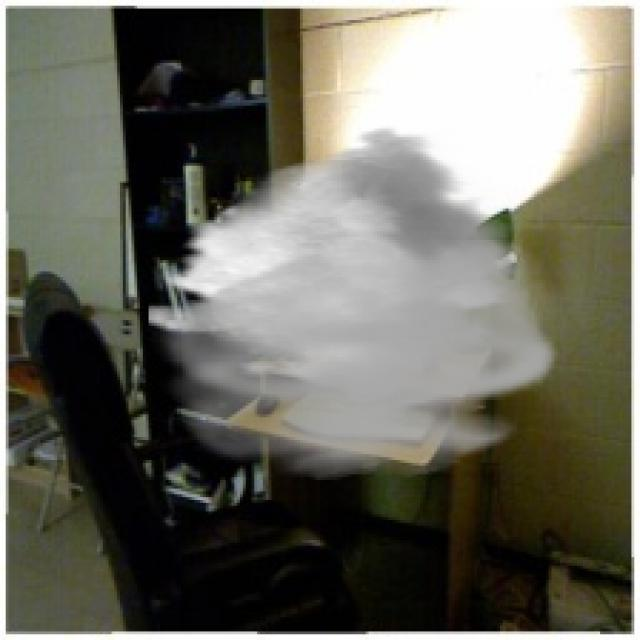Smoke: (148, 126, 563, 480)
